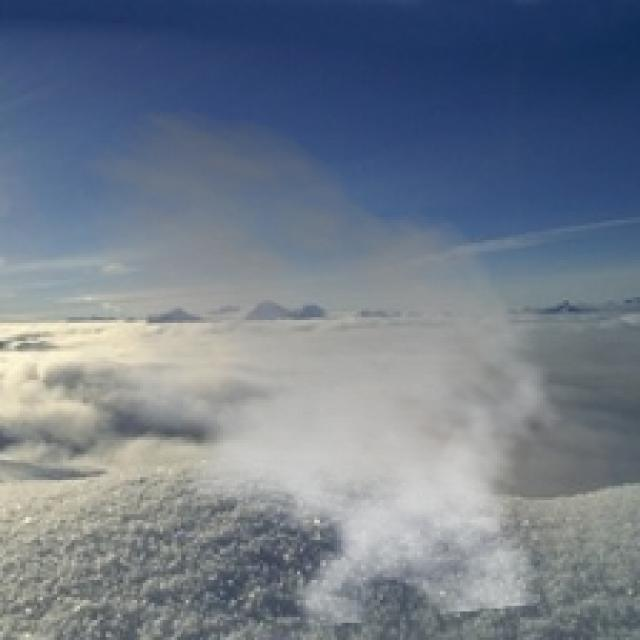Smoke: (23, 102, 580, 628)
